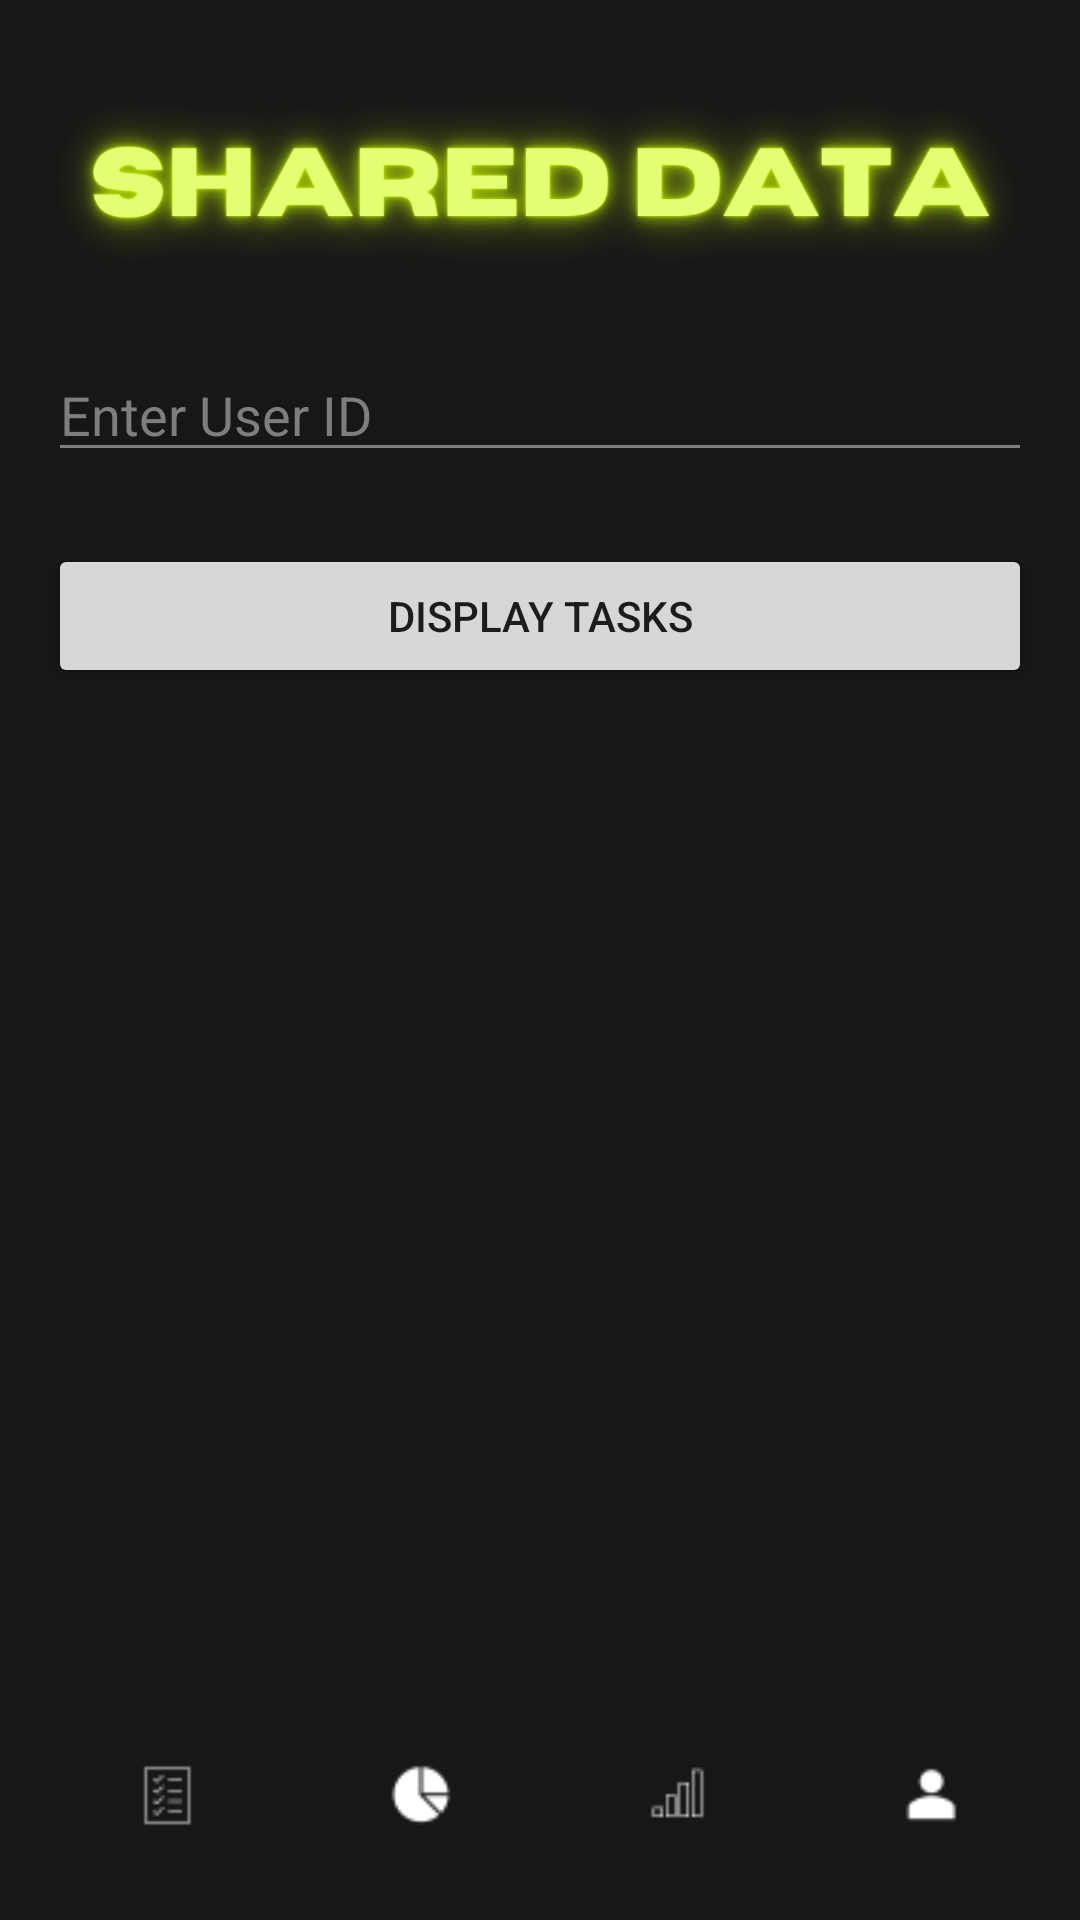

Screen size 1080 × 1920. Icon name, then its center in pixels as point (x, y):
chart: point (677, 1793)
pie: point (420, 1794)
profile: point (931, 1794)
tasks: point (167, 1795)
